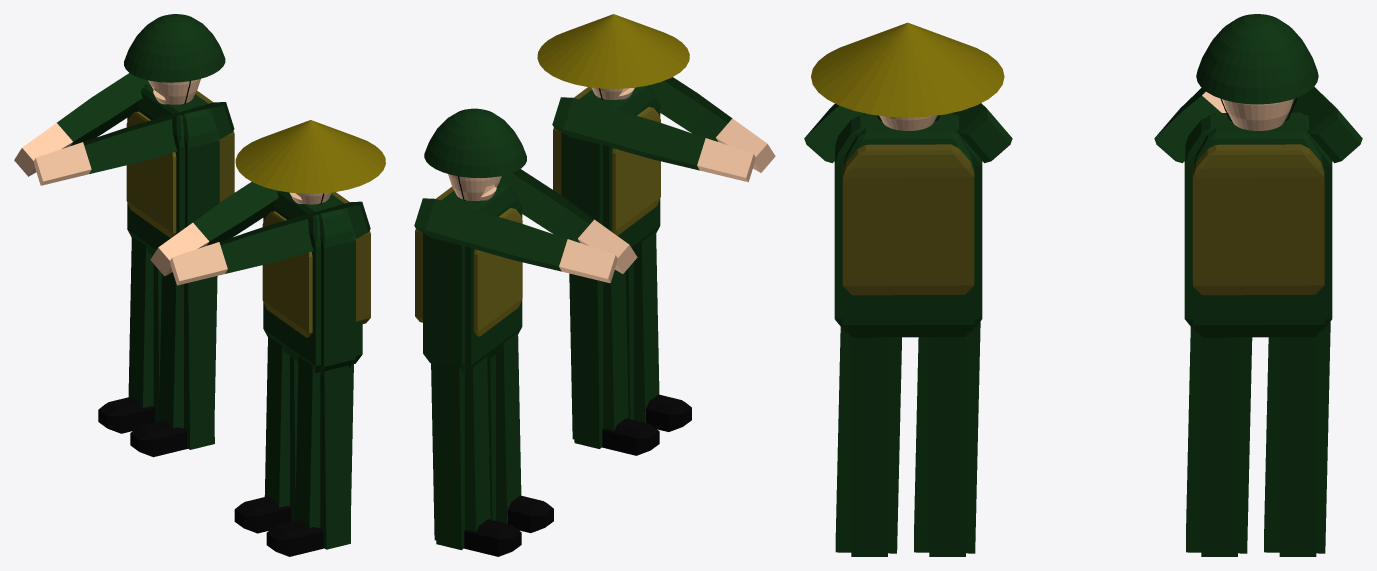
File: tela_static_void_ebat.fbx
3 views of the same model, side by side, from view 1: azimuth 30°, elevation 25°; view 2: azimuth 150°, elevation 25°; view 3: azimuth 270°, elevation 25° (orthographic). The views are drawn at different scales.
Visible parts, largest first — view 1: Sphere.003, Sphere.001; view 2: Sphere.001, Sphere.003; view 3: Sphere.003, Sphere.001.
Part boxes in pixels (x1,y1,x2,y2): Sphere.003: (150, 120, 385, 556); Sphere.001: (14, 14, 234, 457); Sphere.001: (414, 108, 637, 556); Sphere.003: (537, 14, 775, 455); Sphere.003: (804, 22, 1012, 556); Sphere.001: (1154, 14, 1362, 556).
Size of the model in its own units: 375 by 699 by 670.
